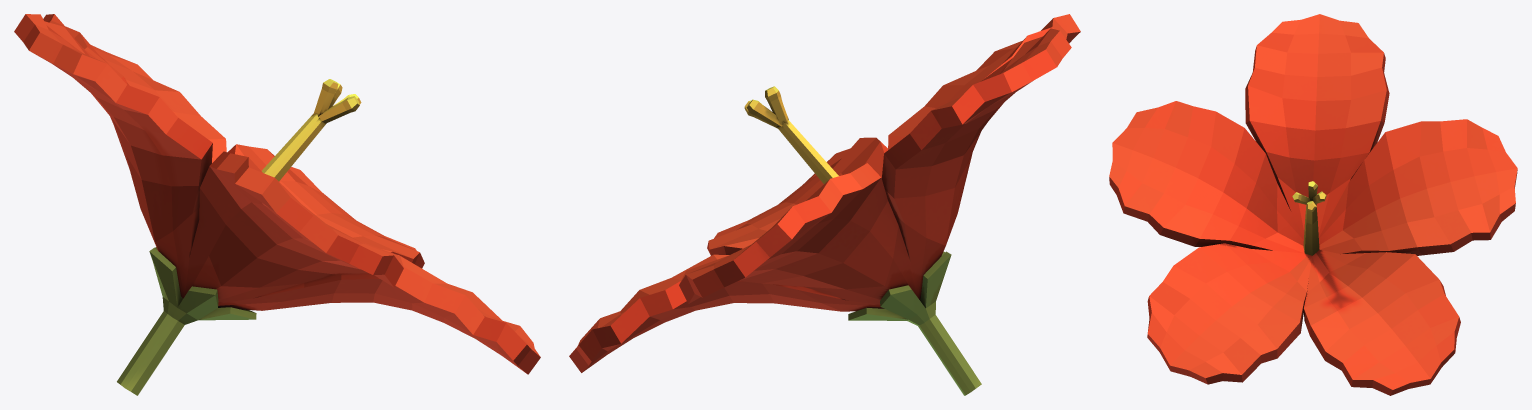
File: petals_placeholder.glb
3 views of the same model, side by side, from view 1: azimuth 30°, elevation 25°; view 2: azimuth 150°, elevation 25°; view 3: azimuth 270°, elevation 25° (orthographic). The views are drawn at different scales.
Visible parts, largest first — view 1: hibiscus_flower; view 2: hibiscus_flower; view 3: hibiscus_flower.
Boxes of the visible parts, x1=… form: hibiscus_flower: x1=14, y1=14, x2=540, y2=395; hibiscus_flower: x1=569, y1=14, x2=1080, y2=395; hibiscus_flower: x1=1109, y1=14, x2=1517, y2=395.
Size of the model in its own units: 1.39 by 1.17 by 1.71.
3 materials, 3 textured.
